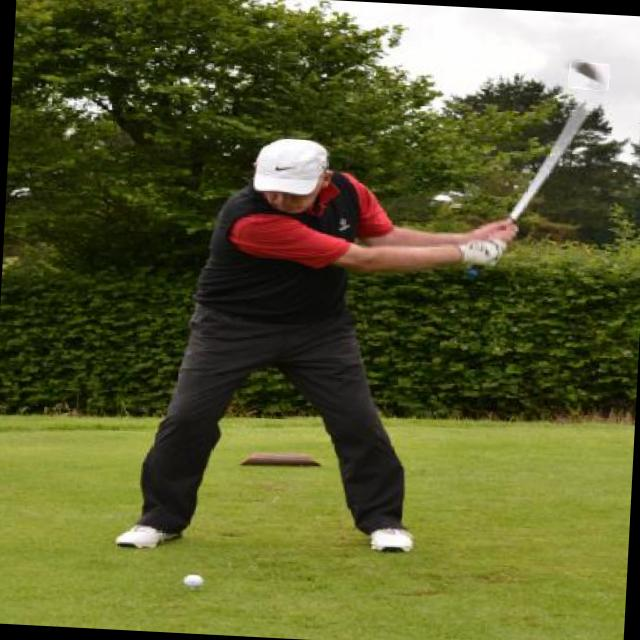club head: (568, 62, 610, 91)
